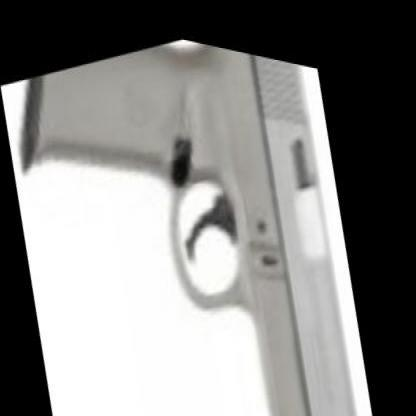pistol: (0, 3, 410, 414)
